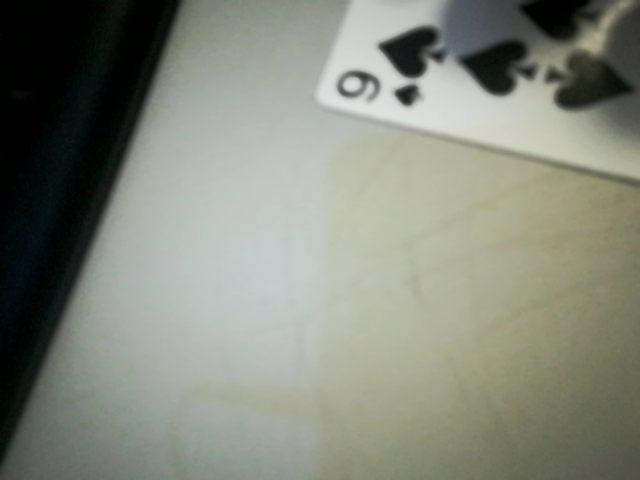ht 9: (313, 39, 448, 125)
